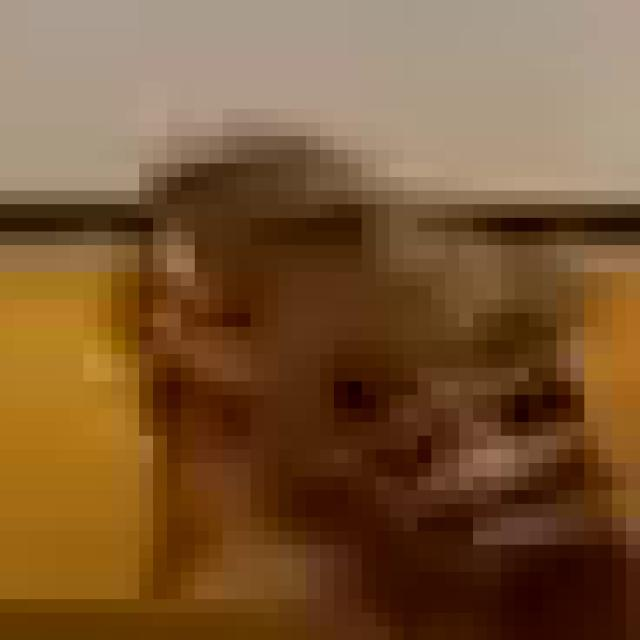honeybee: (78, 95, 597, 584)
